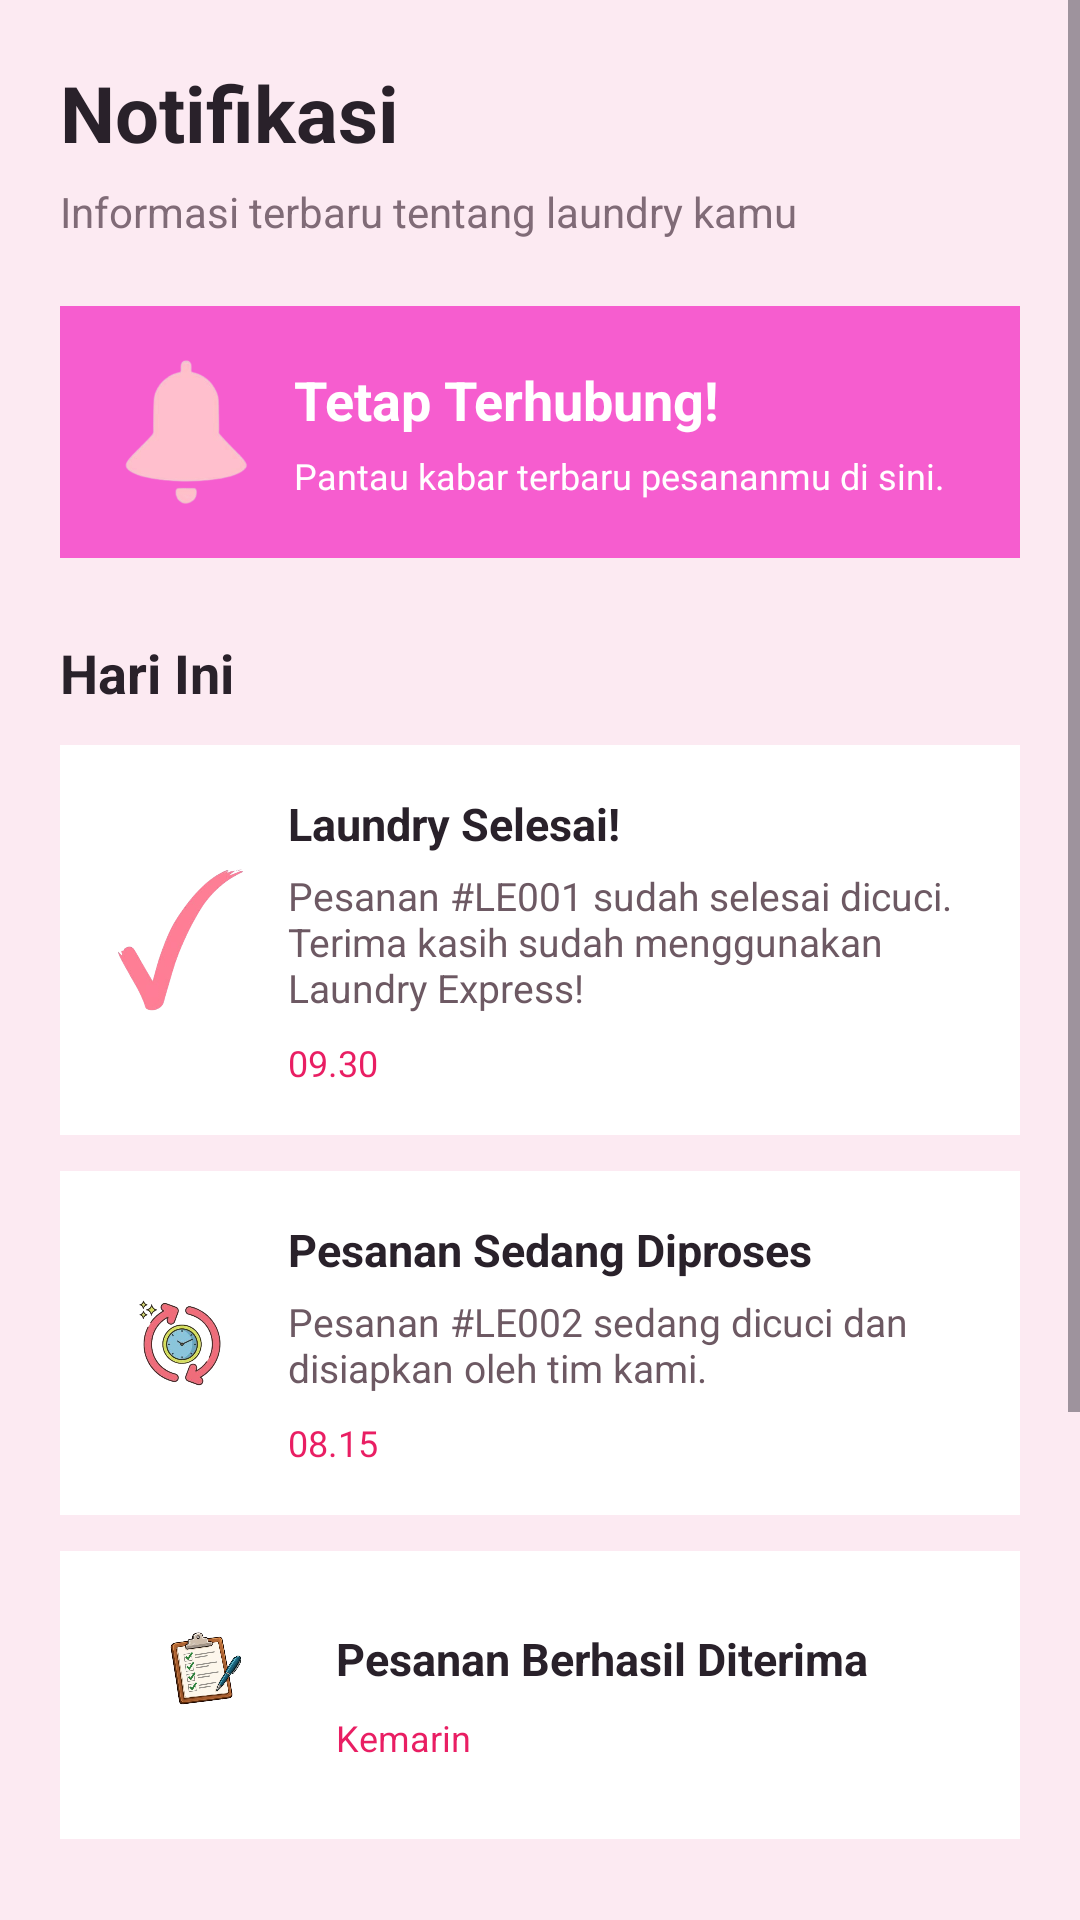

Locate icon controls on the screen. Image size 1080x1920, boxes as (x1, y1, x2, y2).
Ikon notifikasi: (126, 360, 247, 504)
Ikon pesanan selesai: (118, 869, 243, 1010)
